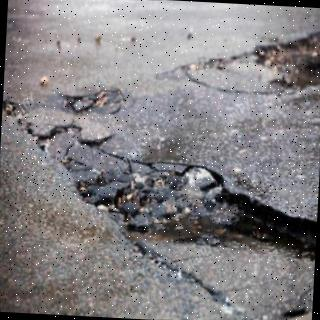pothole: (76, 160, 316, 261)
